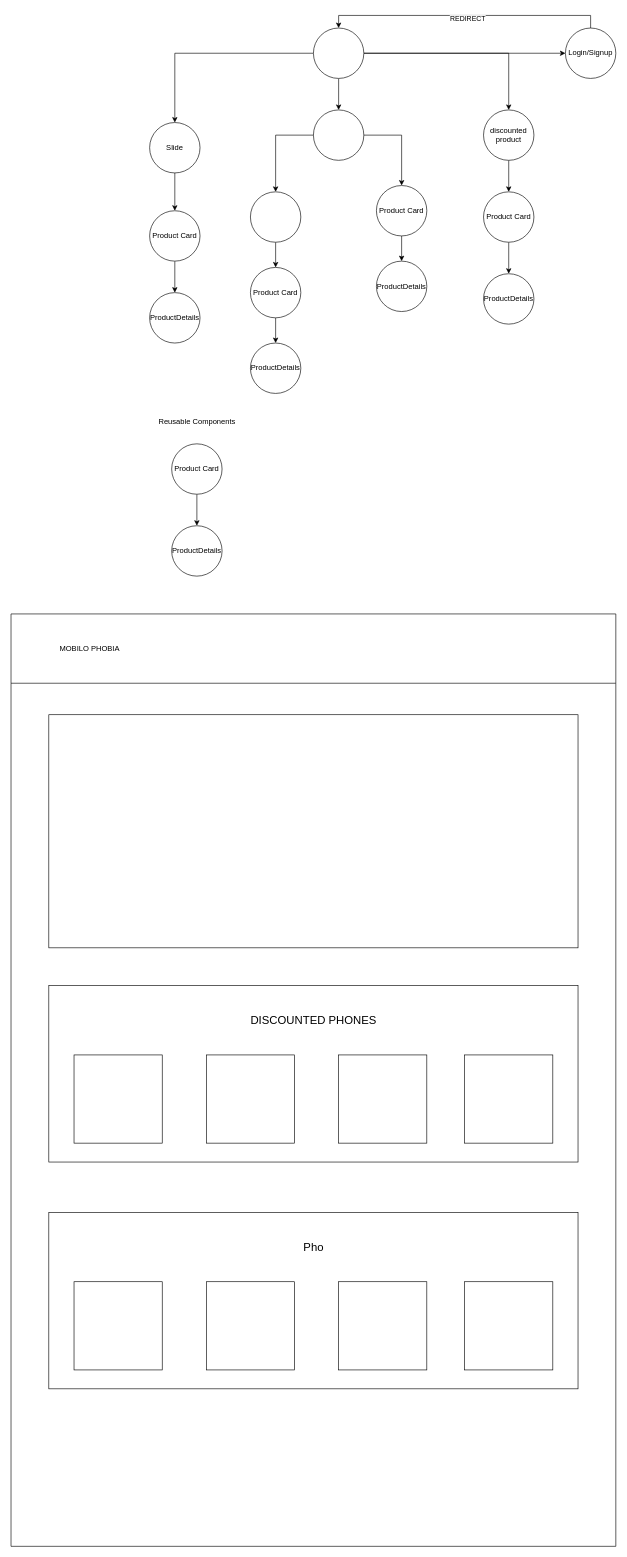
The diagram is 627 pixels wide and 1557 high, and some of its shapes have lost their labels. Each missing label, with the box of its shape:
Home: (313, 27, 364, 78)
Latest Product: (313, 109, 364, 160)
Products: (250, 191, 301, 242)
SLIDE OF EXCLUSIVE PHONES: (48, 714, 578, 948)
